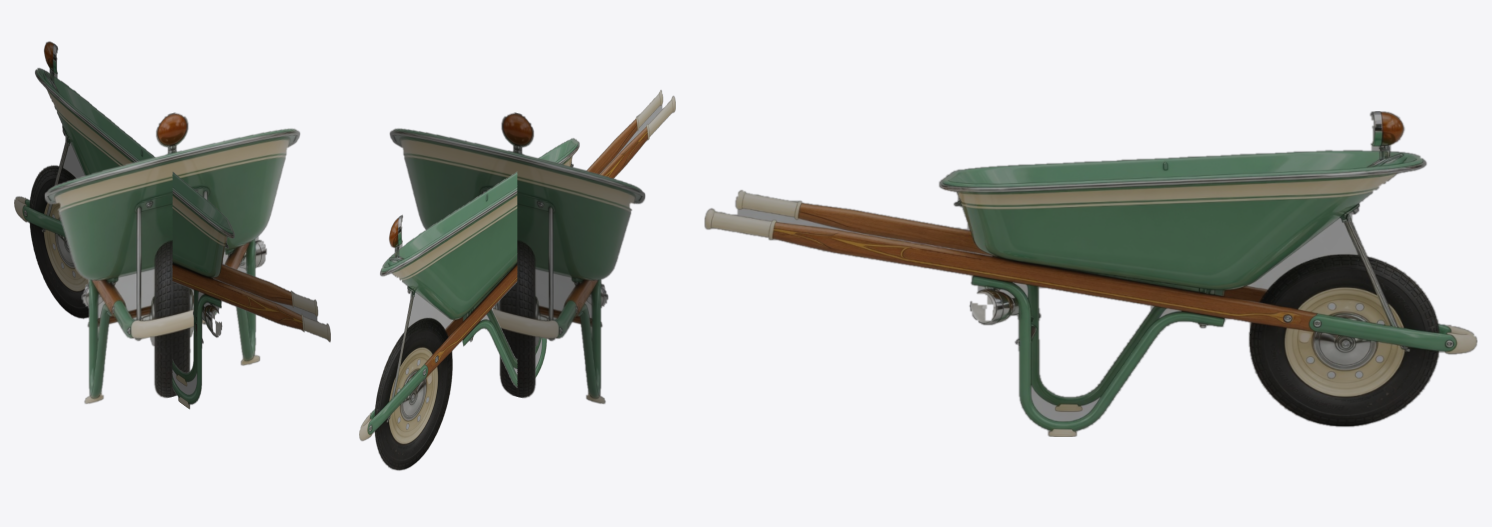
File: wheelbarrow.glb
3 renders of one model, left to right at view 1: azimuth 30°, elevation 25°; view 2: azimuth 150°, elevation 25°; view 3: azimuth 270°, elevation 25°, orthographic. The views are drawn at different scales.
Visible parts, largest first — view 1: wheelbarrow; view 2: wheelbarrow; view 3: wheelbarrow.
Part boxes in pixels (box(x1,y1,x2,y2)): wheelbarrow: box(14, 41, 330, 409); wheelbarrow: box(359, 90, 675, 470); wheelbarrow: box(704, 111, 1477, 436).
Bounding box in the file's own units: 0.6988 × 0.7416 × 1.5.
1 material, 1 textured.
